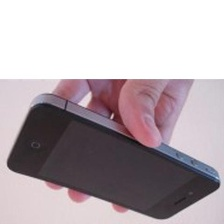phone: (3, 88, 223, 224)
